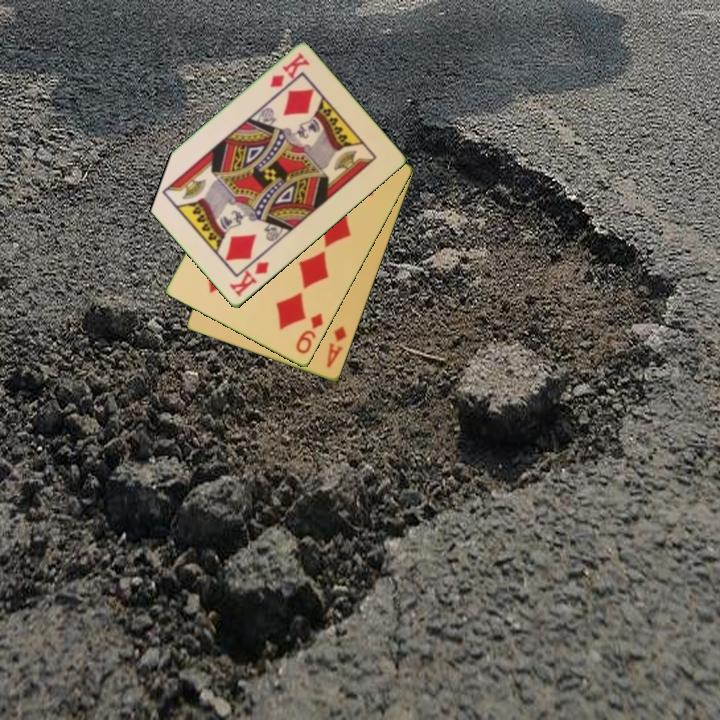9d: (292, 310, 326, 357)
Ad: (323, 323, 350, 371)
Kd: (226, 258, 272, 300), (266, 49, 312, 91)
